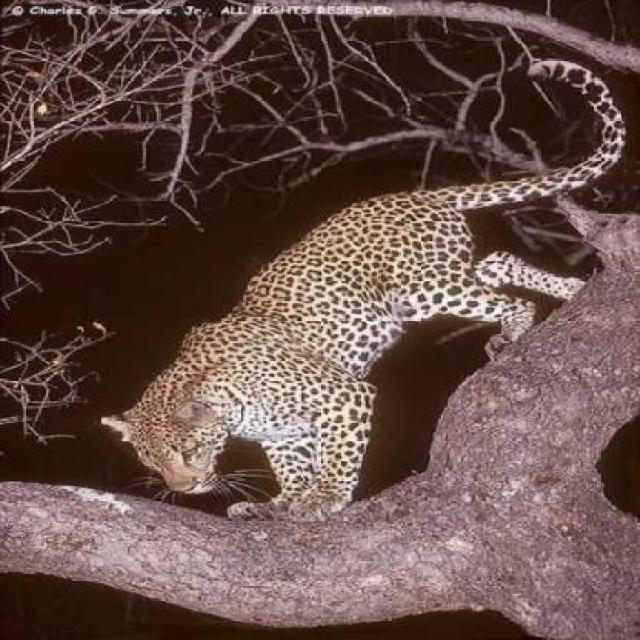Leopard: (83, 152, 565, 543)
